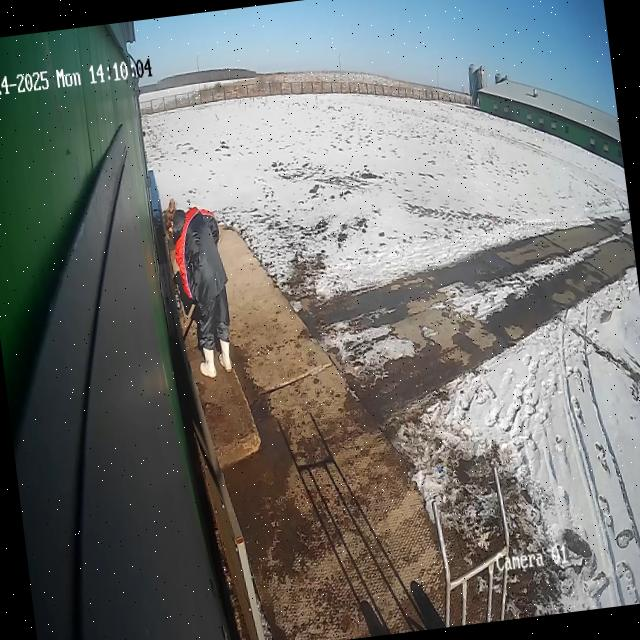Red uniform: (164, 200, 241, 383)
